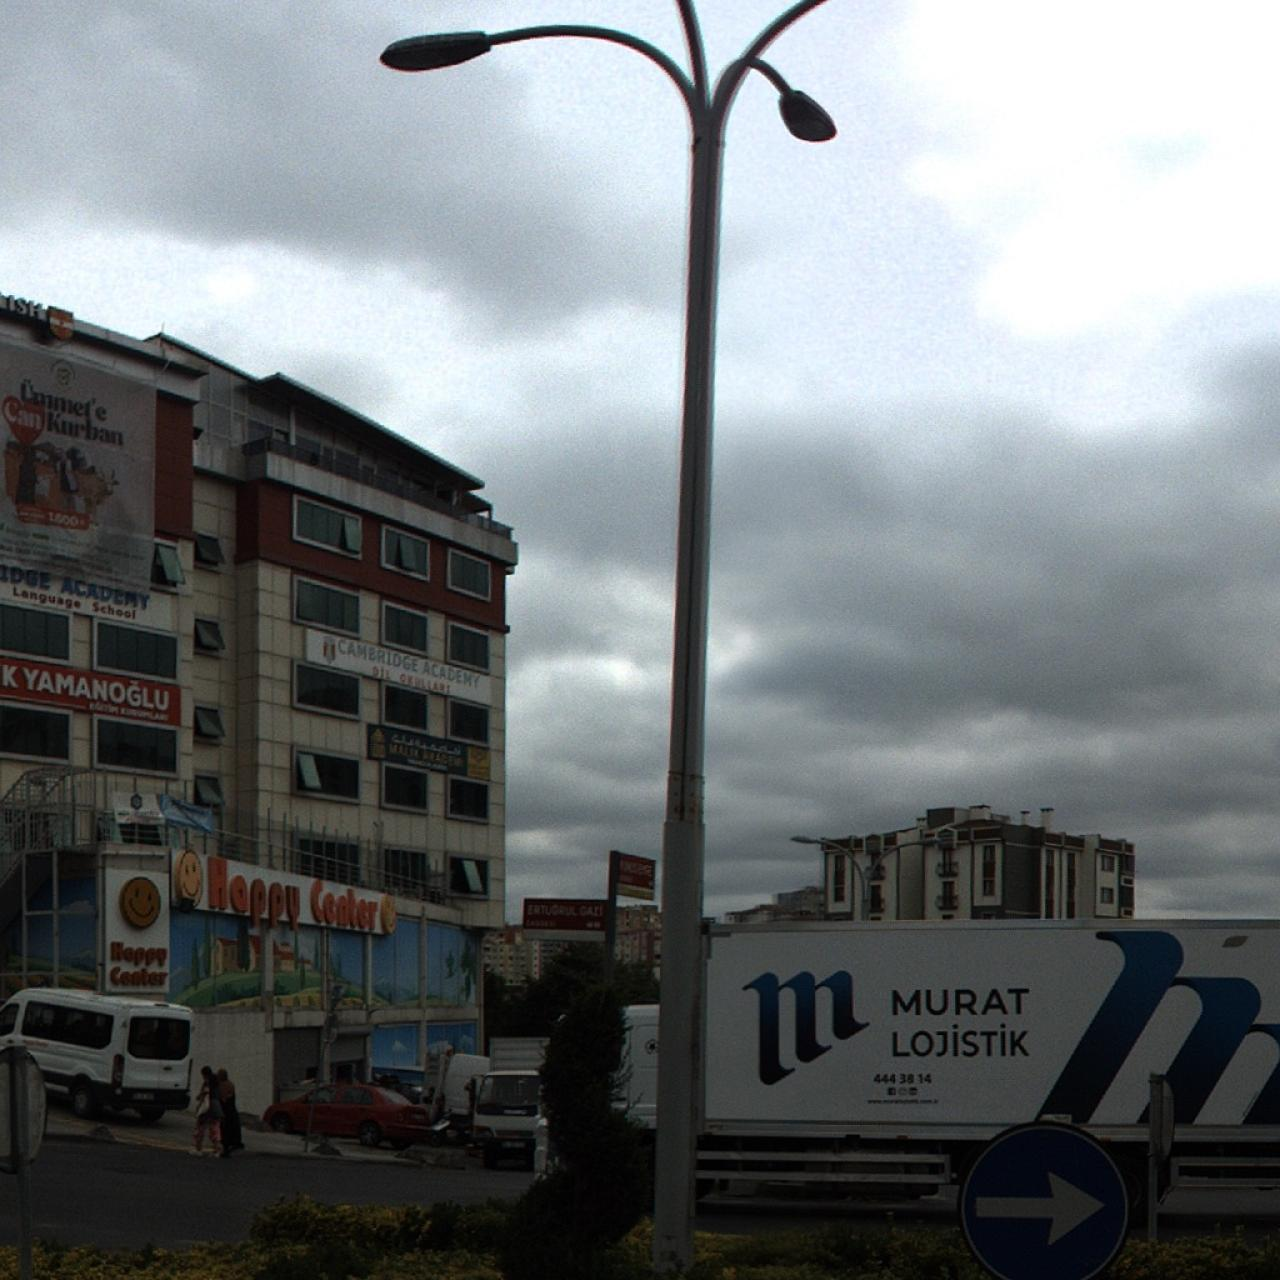SignStore: (171, 847, 395, 934), (305, 629, 491, 704), (2, 655, 182, 729), (1, 565, 172, 631), (368, 723, 490, 781), (0, 292, 73, 341)
